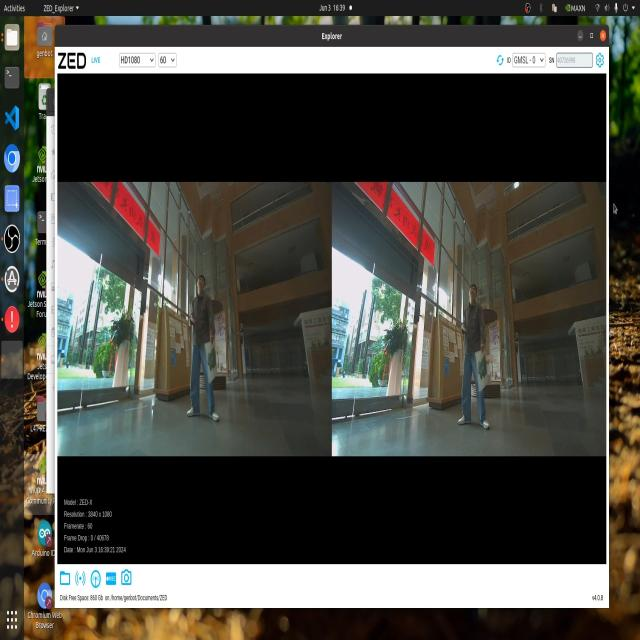green: (477, 350, 489, 390), (207, 347, 216, 375)
